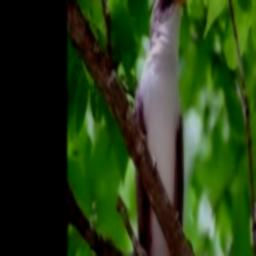Cuckoo: (133, 0, 195, 256)
